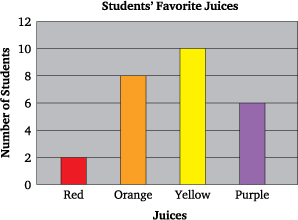canvas: (39, 26, 295, 182)
title: (99, 1, 243, 14)
x-axis: (34, 183, 298, 188)
x-labels: (57, 189, 273, 204)
x-title: (151, 208, 191, 220)
y-axis: (35, 20, 38, 186)
y-labels: (18, 15, 31, 191)
y-title: (1, 45, 10, 162)
